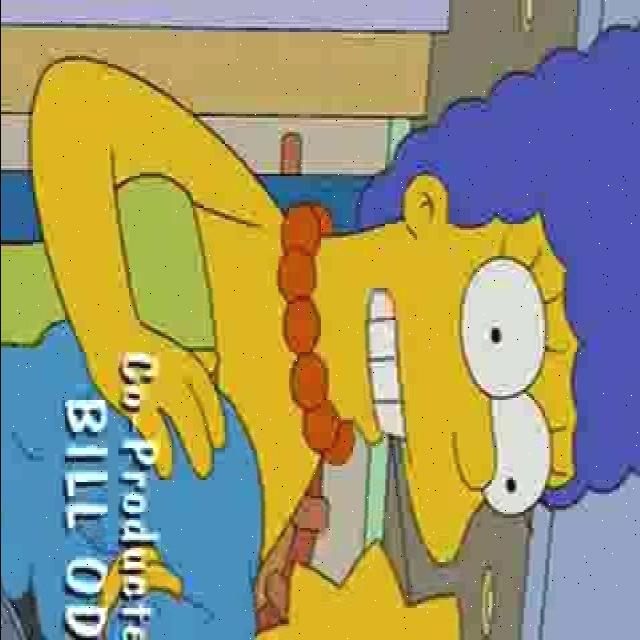Marge Simpson: (278, 35, 640, 569)
